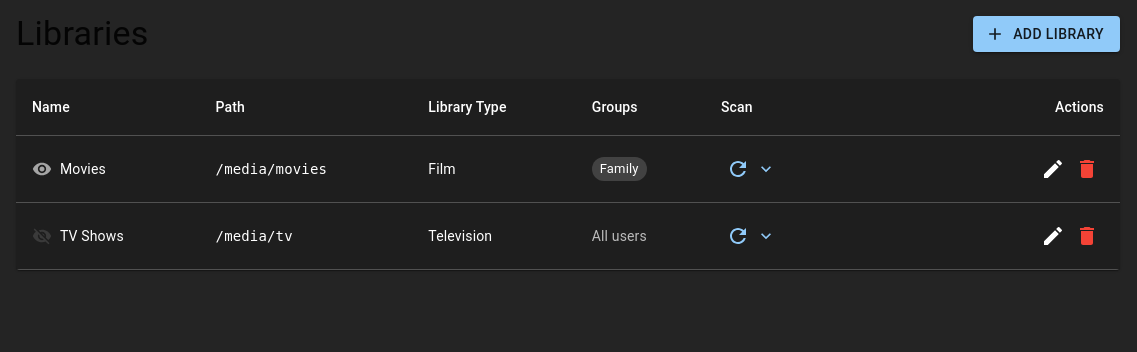
Test case: LibrariesPage › delete operations › shows error when delete fails
The width and height of the screenshot is (1137, 352).
Expected: the text "Movies" is shown, [32,159,106,179]
Click the button with test id "DeleteIcon".
click(1087, 169)  # box [1070,152,1104,186]
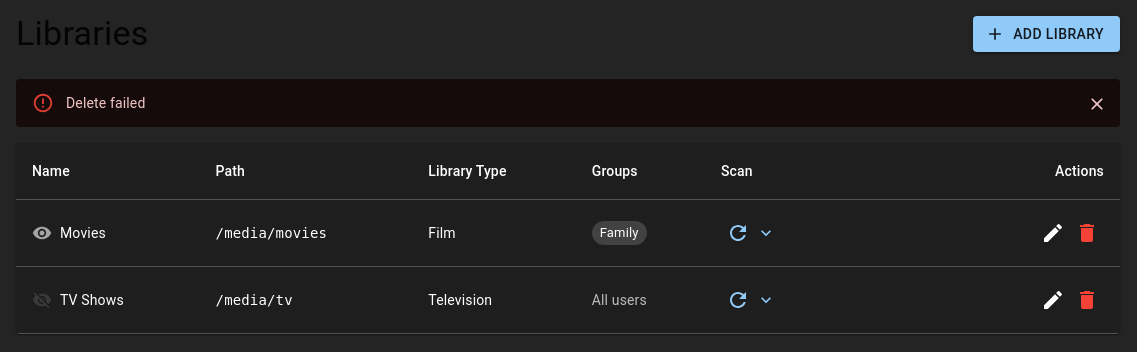
Now the text "Delete failed" is shown, box [66,95,146,111]
